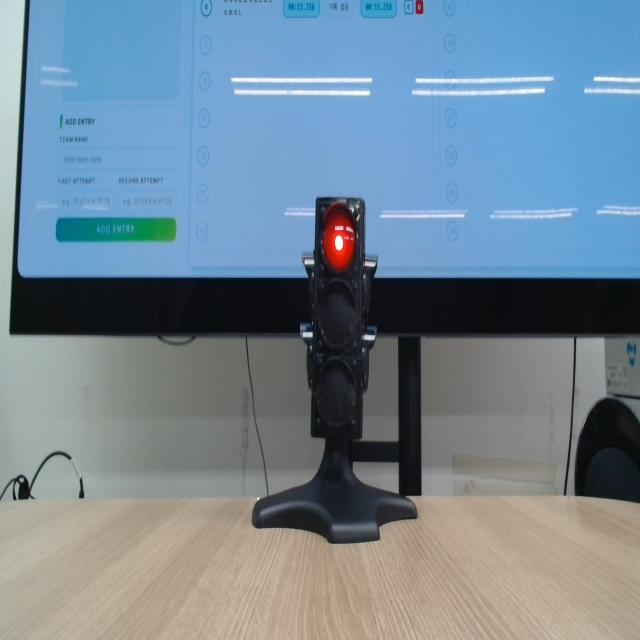red_light: (323, 204, 355, 272)
